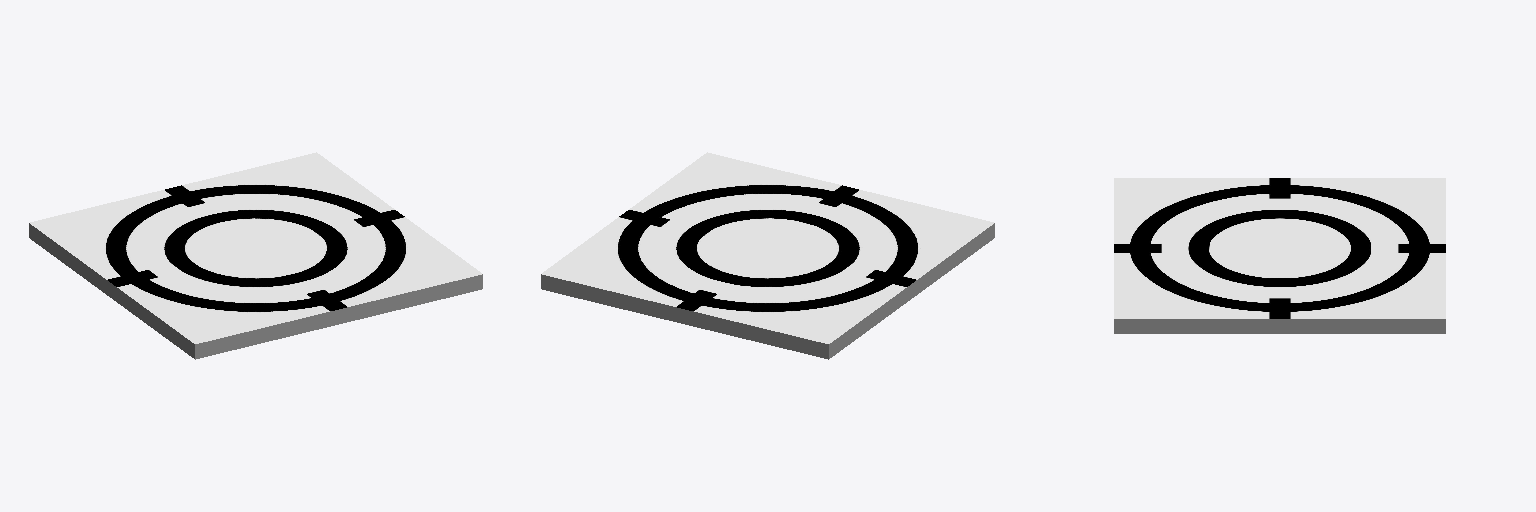
3 views of the same model, side by side, from view 1: azimuth 30°, elevation 25°; view 2: azimuth 150°, elevation 25°; view 3: azimuth 270°, elevation 25° (orthographic).
Visible parts, largest first — view 1: Cube; view 2: Cube; view 3: Cube.
Part boxes in pixels (x1,y1,x2,y2): Cube: (29,152,482,359); Cube: (541,152,994,359); Cube: (1114,178,1445,333).
Size of the model in its own units: 2 by 0.1 by 2.
Materials: 2 (1 with a texture image).